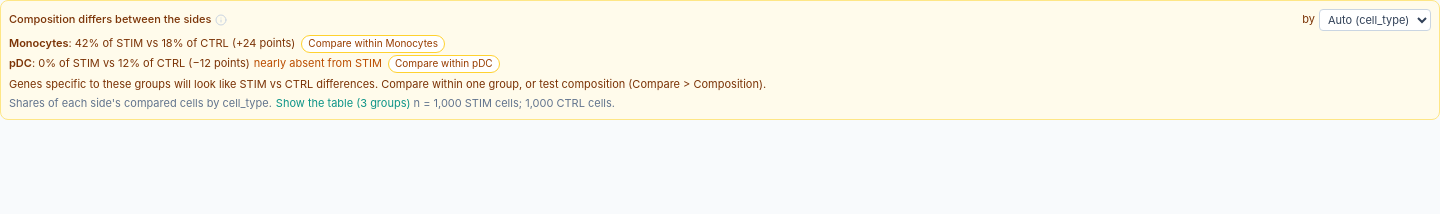
Scenario: DeCompositionNote › shows every group in a table with header tooltips
What coordinates should you click on to do the following:
click the button "Show the table (3 groups)"
I would click on:
 (343, 103)
Its box is [276,96,410,111].
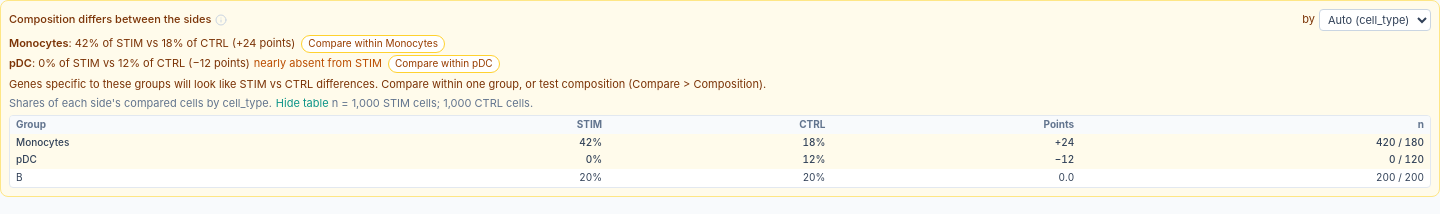
Check: the column headings read "Group", "STIM", "CTRL", "Points", "n", in this order, box [10,116,391,134]; [391,116,608,134]; [608,116,831,134]; [831,116,1080,134]; [1080,116,1430,134]
Check: the number of rows is 4, box [10,116,1430,134]; [10,134,1430,151]; [10,151,1430,169]; [10,169,1430,187]
